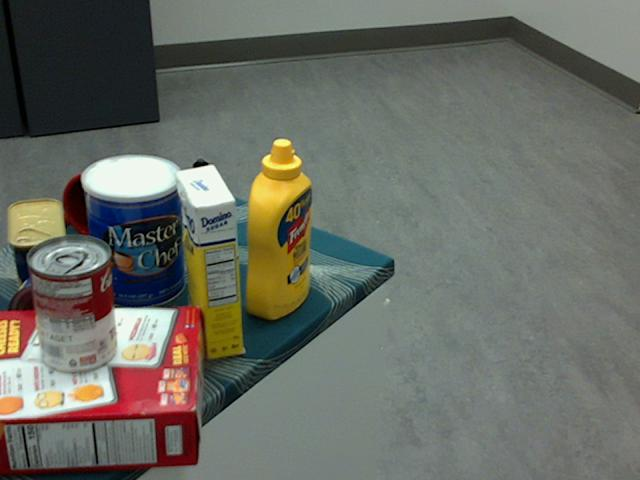cracker_box: (0, 307, 201, 472)
large_marker: (193, 158, 212, 252)
master_chef_can: (79, 154, 184, 311)
mug: (61, 156, 152, 243)
mustard_bottle: (244, 137, 312, 319)
potted_meat_can: (6, 197, 71, 307)
sugar_box: (176, 163, 242, 360)
tomato_soup_can: (26, 235, 115, 373)
tuna_fish_can: (7, 268, 102, 357)
